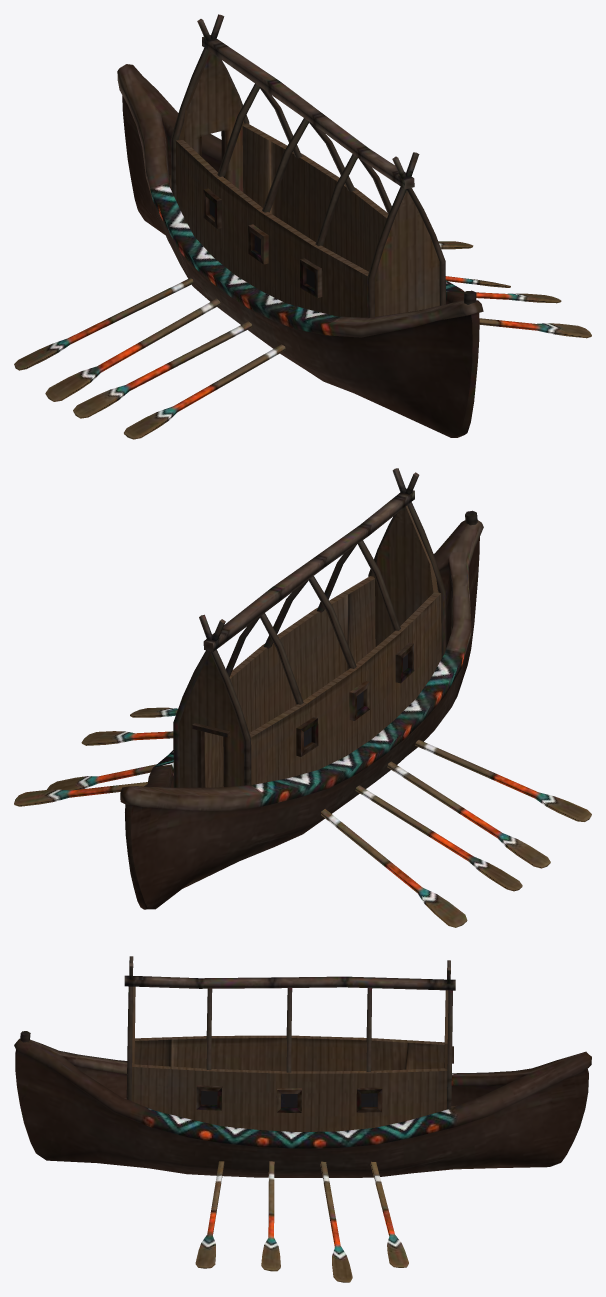
File: body-base.glb
3 renders of one model, top to bottom at view 1: azimuth 30°, elevation 25°; view 2: azimuth 150°, elevation 25°; view 3: azimuth 270°, elevation 25°, orthographic. The views are drawn at different scales.
Bounding box in the file's own units: 5.26 × 3.01 × 6.81.
Materials: 1 (1 with a texture image).
